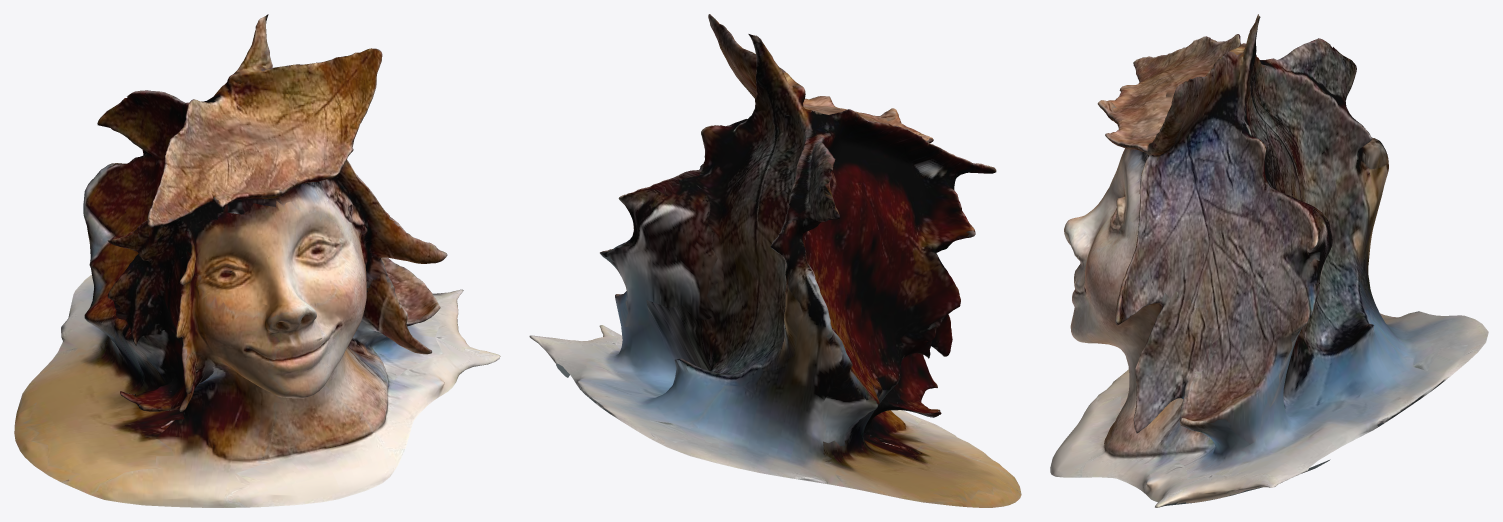
The model's file is jolyHead.glb.
3 renders of one model, left to right at view 1: azimuth 30°, elevation 25°; view 2: azimuth 150°, elevation 25°; view 3: azimuth 270°, elevation 25°, orthographic. The views are drawn at different scales.
Visible parts, largest first — view 1: jolyHead; view 2: jolyHead; view 3: jolyHead.
Part boxes in pixels (box(x1,y1,x2,y2)): jolyHead: box(14, 14, 500, 507); jolyHead: box(529, 14, 1021, 507); jolyHead: box(1050, 14, 1488, 507).
Bounding box in the file's own units: 20.98 × 18.57 × 16.23.
2 materials, 2 textured.
